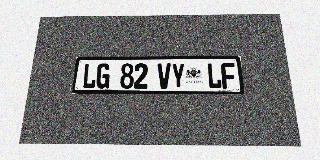2: (134, 63, 148, 89)
8: (120, 63, 134, 89)
F: (221, 63, 237, 89)
G: (95, 63, 111, 89)
L: (82, 63, 97, 89), (207, 63, 222, 89)
V: (157, 63, 171, 89)
Y: (171, 63, 185, 89)
